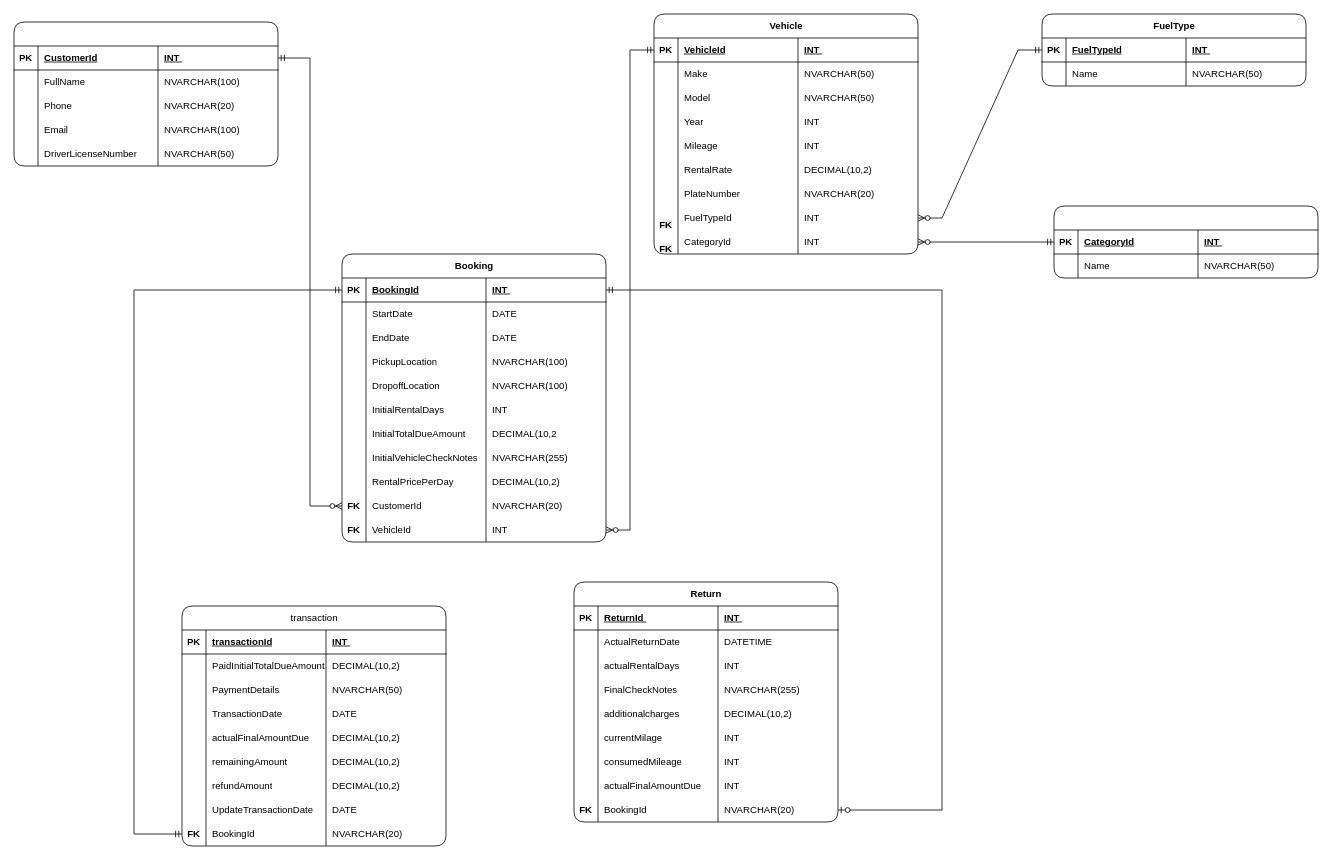
Image size: 1332x860. Some labels were removed from this diagram. The shapes that lost their labels are listed below. From the top down, each one's box as (x1, y1, x2, y2) in pixels, then its label:
(13, 21, 278, 166): Table
(1053, 205, 1318, 278): VehicleCategory
